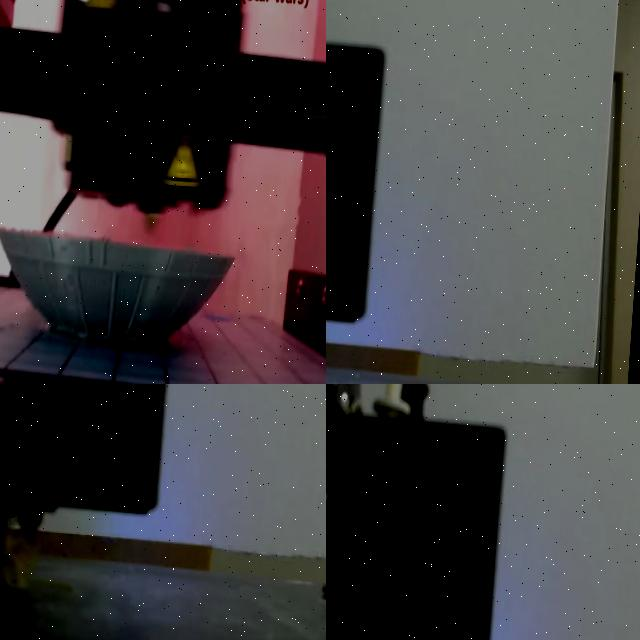spaghetti: (0, 532, 38, 589)
